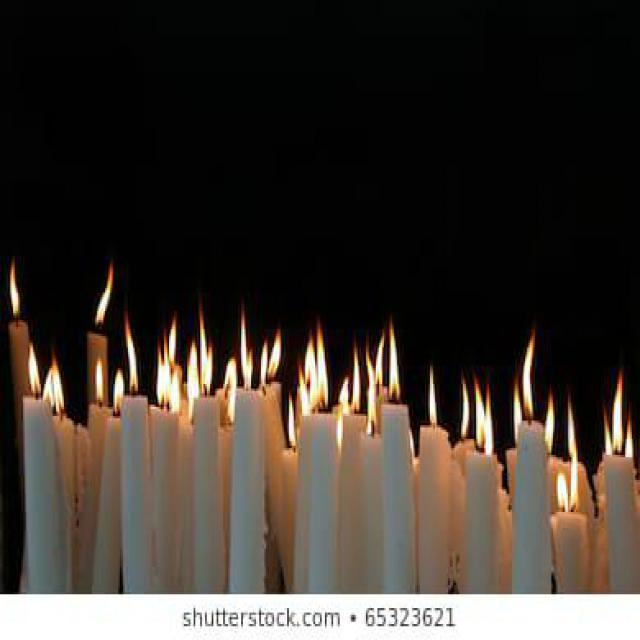Fire: (299, 322, 330, 418), (606, 367, 634, 456), (156, 319, 180, 415), (474, 370, 494, 455), (363, 345, 380, 432), (198, 300, 214, 392), (558, 443, 578, 512), (93, 262, 114, 326), (524, 329, 538, 425), (44, 355, 66, 415), (124, 310, 139, 396), (262, 330, 284, 385), (388, 321, 401, 406), (511, 378, 524, 452), (240, 308, 252, 388), (350, 345, 364, 412), (223, 358, 236, 426), (373, 328, 385, 399), (188, 344, 198, 419), (427, 364, 439, 426), (10, 260, 22, 320), (566, 396, 576, 466), (28, 343, 41, 393), (460, 372, 470, 437), (544, 392, 554, 454), (94, 358, 105, 403), (114, 370, 125, 414), (288, 394, 295, 449)
